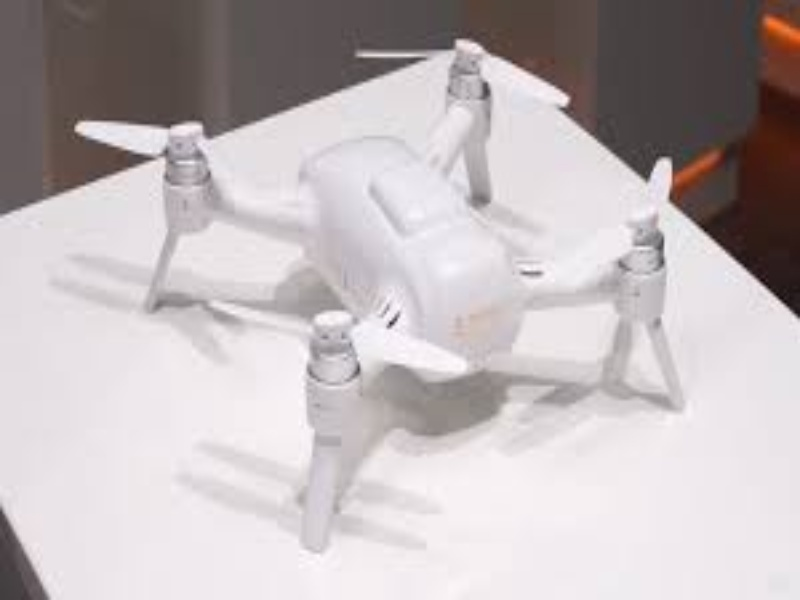drone: (67, 39, 744, 559)
